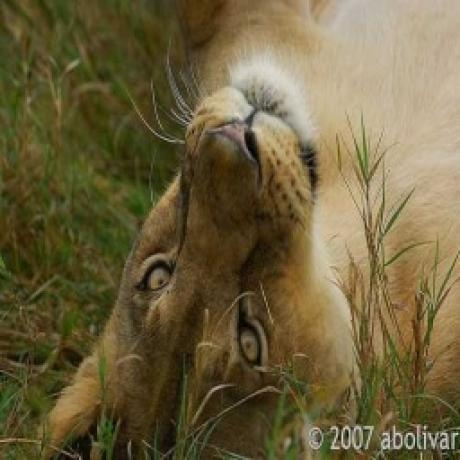Lion: (40, 0, 460, 460)
